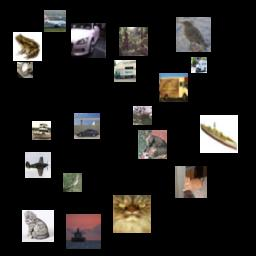airplane: (25, 152, 51, 178), (44, 10, 66, 32)
automobile: (71, 23, 106, 58), (74, 113, 100, 139)
bird: (176, 17, 211, 52), (63, 173, 82, 192)
cat: (113, 195, 151, 233), (22, 210, 54, 242), (175, 166, 207, 198), (138, 130, 167, 159), (17, 62, 33, 78)
deer: (119, 27, 148, 56), (133, 106, 152, 125)
frog: (13, 32, 42, 61)
ship: (200, 115, 238, 153), (66, 214, 101, 249), (32, 121, 51, 140)
truck: (159, 73, 188, 102), (114, 60, 136, 82), (191, 57, 207, 73)
